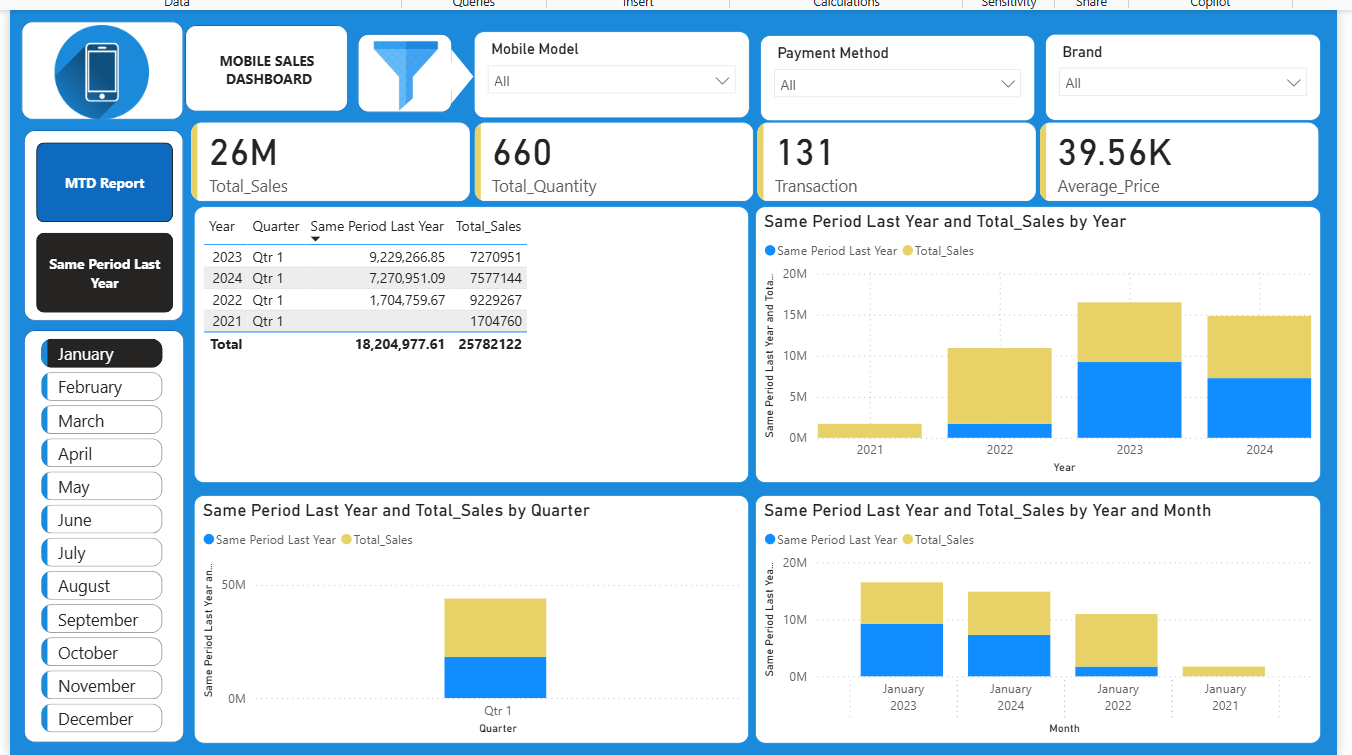

What the dashboard file says about the page in this screenshot:
{"tool":"powerbi","page":{"name":"Same Period Last Year","canvas":[1280,720],"ordinal":2},"visuals":[{"type":"shape","box":[10.8,10.8,156.6,95.2],"z":0},{"type":"image","box":[37.3,14.5,102.4,91.6],"z":1000},{"type":"shape","box":[13.3,115.7,154.2,184.3],"z":2000},{"type":"cardVisual","fields":{"Data":["Sales data.Total_Sales","Sales data.Total_Quantity","Sales data.Transaction","Sales data.Average_Price"]},"box":[157.5,91.2,1122.5,110],"z":3000},{"type":"slicer","fields":{"Values":["Sales data.Mobile Model"]},"box":[447.5,20,266.2,83.8],"z":4000},{"type":"slicer","fields":{"Values":["Sales data.Payment Method"]},"box":[724.3,24.3,265.7,82.9],"z":5000},{"type":"slicer","fields":{"Values":["Sales data.Brand"]},"box":[998.8,22.5,266.2,83.8],"z":6000},{"type":"shape","box":[335.4,23.1,91.5,76.2],"z":7000},{"type":"image","box":[321.5,24.6,120,79.2],"z":8000},{"type":"shape","box":[404.4,37.8,43.3,53.3],"z":9000},{"type":"shape","box":[168.8,15,157.5,83.8],"z":10000},{"type":"textbox","box":[177.5,35,141.2,45],"z":11000},{"type":"tableEx","fields":{"Values":["Custom Calender.Date.Variation.Date Hierarchy.Year","Custom Calender.Date.Variation.Date Hierarchy.Quarter","Sales data.Same Period Last Year","Sales data.Total_Sales"]},"box":[177.5,190,536.2,267.5],"z":12000},{"type":"shape","box":[13.3,308.3,155,398.3],"z":12001},{"type":"advancedSlicerVisual","fields":{"Values":["Custom Calender.Date.Variation.Date Hierarchy.Month"]},"box":[25,312.5,127.5,395],"z":12002},{"type":"columnChart","fields":{"Category":["Custom Calender.Date.Variation.Date Hierarchy.Year"],"Y":["Sales data.Same Period Last Year","Sales data.Total_Sales"]},"box":[718.8,190,546.2,267.5],"z":12003},{"type":"columnChart","fields":{"Category":["Custom Calender.Date.Variation.Date Hierarchy.Quarter"],"Y":["Sales data.Same Period Last Year","Sales data.Total_Sales"]},"box":[177.5,467.5,536.2,240],"z":12004},{"type":"columnChart","fields":{"Category":["Custom Calender.Date.Variation.Date Hierarchy.Year","Custom Calender.Date.Variation.Date Hierarchy.Month"],"Y":["Sales data.Same Period Last Year","Sales data.Total_Sales"]},"box":[718.8,467.5,546.2,240],"z":12005},{"type":"pageNavigator","box":[25,127.5,132.5,165],"z":12006}]}

Visuals, with their boxes in screenshot pixels (x1, y1, x2, y2):
shape: x1=22, y1=18, x2=183, y2=116
image: x1=49, y1=22, x2=155, y2=117
shape: x1=24, y1=126, x2=183, y2=317
cardVisual - Sales data.Total_Sales x Sales data.Total_Quantity: x1=173, y1=101, x2=1332, y2=215
slicer - Sales data.Mobile Model: x1=472, y1=28, x2=747, y2=114
slicer - Sales data.Payment Method: x1=758, y1=32, x2=1032, y2=118
slicer - Sales data.Brand: x1=1041, y1=30, x2=1316, y2=117
shape: x1=357, y1=31, x2=451, y2=110
image: x1=342, y1=32, x2=466, y2=114
shape: x1=428, y1=46, x2=473, y2=101
shape: x1=185, y1=23, x2=347, y2=109
textbox: x1=194, y1=43, x2=339, y2=90
tableEx - Custom Calender.Date.Variation.Date Hierarchy.Year x Custom Calender.Date.Variation.Date Hierarchy.Quarter: x1=194, y1=203, x2=747, y2=479
shape: x1=24, y1=325, x2=184, y2=736
advancedSlicerVisual - Custom Calender.Date.Variation.Date Hierarchy.Month: x1=36, y1=330, x2=168, y2=737
columnChart - Custom Calender.Date.Variation.Date Hierarchy.Year x Sales data.Same Period Last Year: x1=752, y1=203, x2=1316, y2=479
columnChart - Custom Calender.Date.Variation.Date Hierarchy.Quarter x Sales data.Same Period Last Year: x1=194, y1=490, x2=747, y2=737
columnChart - Custom Calender.Date.Variation.Date Hierarchy.Year x Custom Calender.Date.Variation.Date Hierarchy.Month: x1=752, y1=490, x2=1316, y2=737
pageNavigator: x1=36, y1=139, x2=173, y2=309
